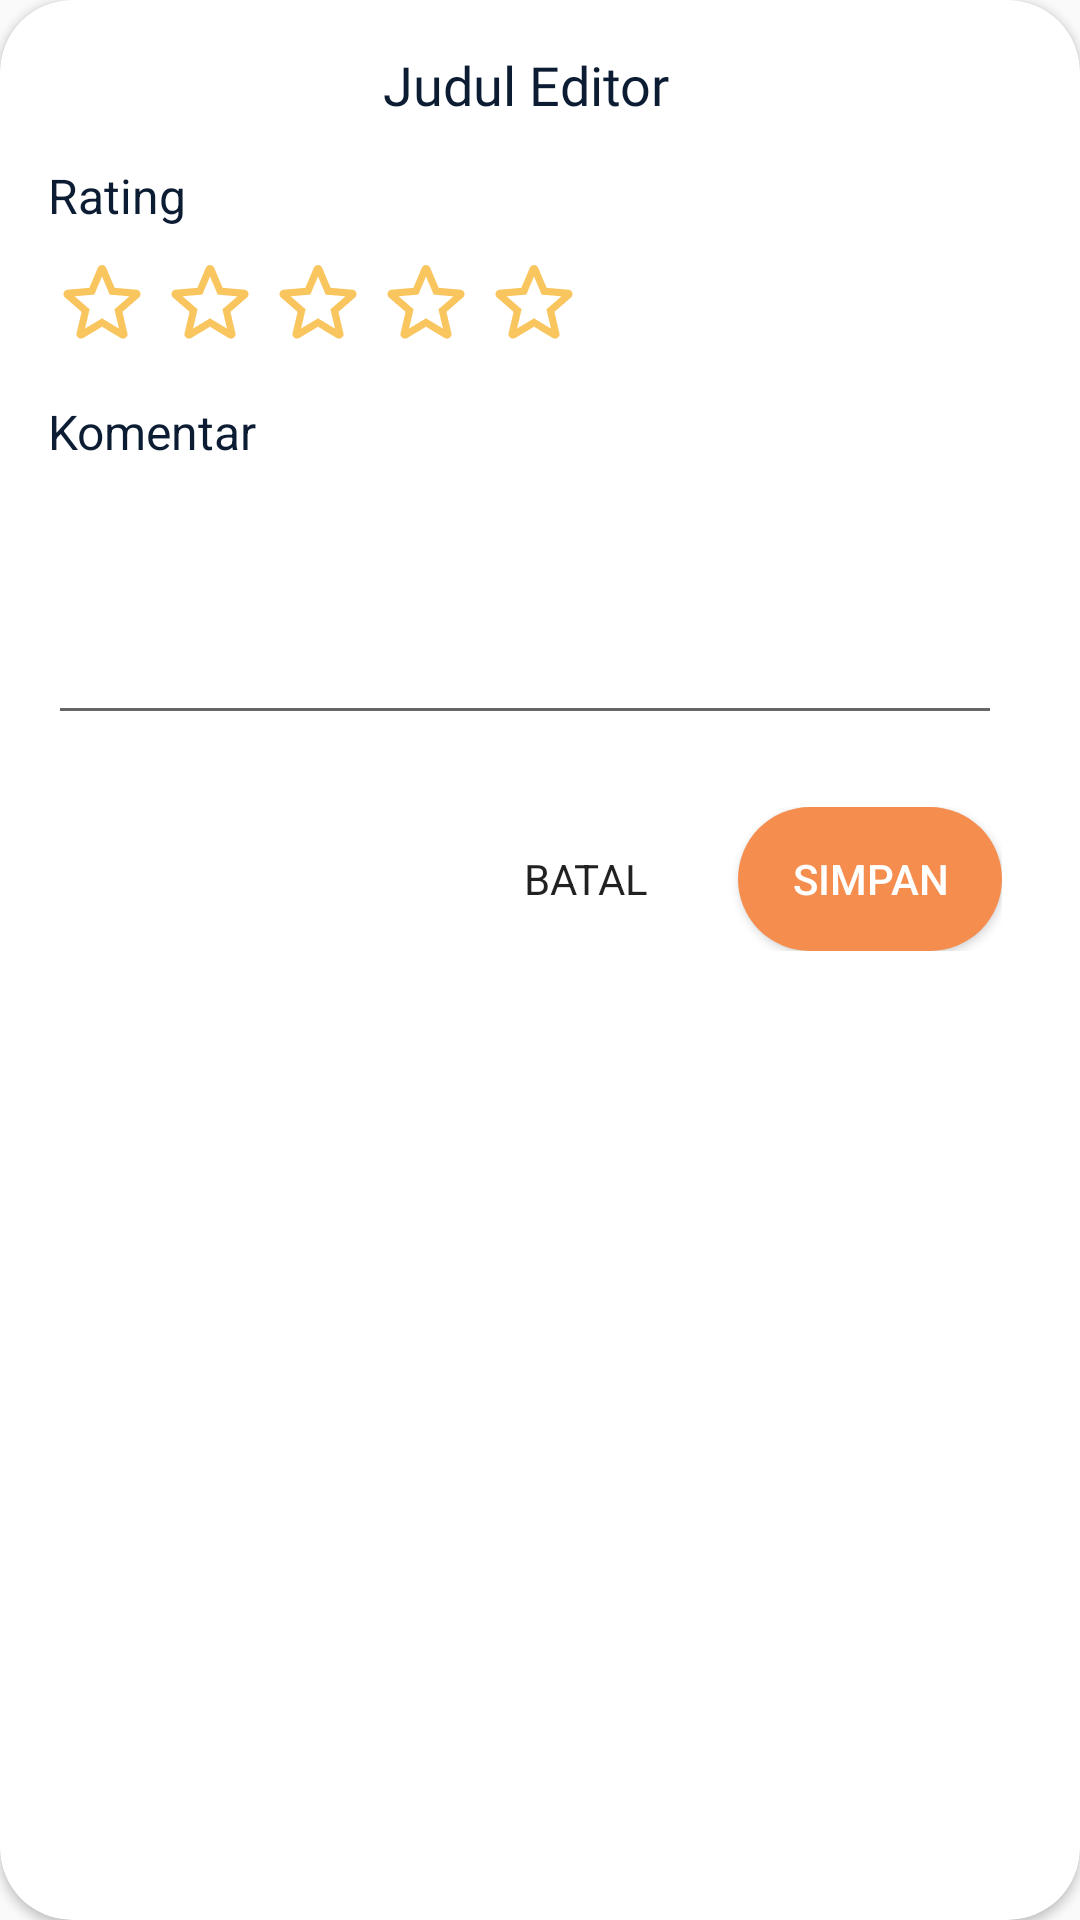

Icon bounding boxes for this 1080×1920 phone screenshot, format [x1=x1, y1=y1, x2=x2, y2=y2]:
star: [x1=63, y1=265, x2=141, y2=339], [x1=171, y1=265, x2=249, y2=339], [x1=279, y1=265, x2=357, y2=339], [x1=387, y1=265, x2=465, y2=339], [x1=495, y1=265, x2=573, y2=339]
